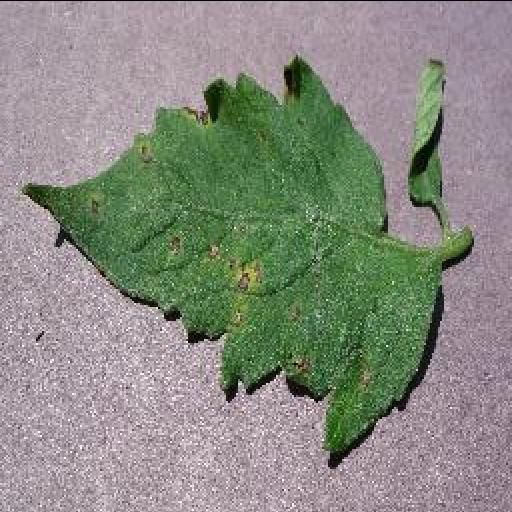disease_tomato: (20, 52, 442, 458)
